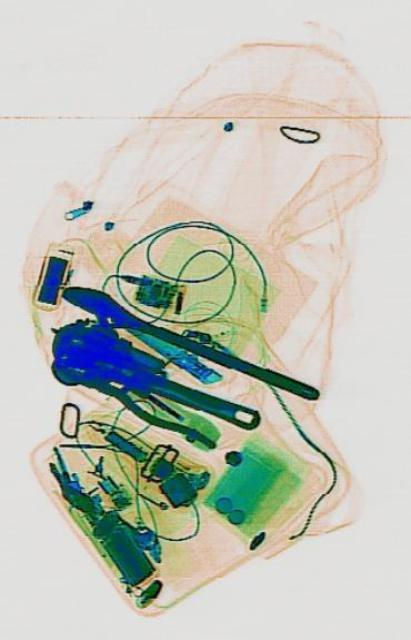Pliers: (65, 340, 236, 452)
Wrench: (56, 274, 321, 414)
